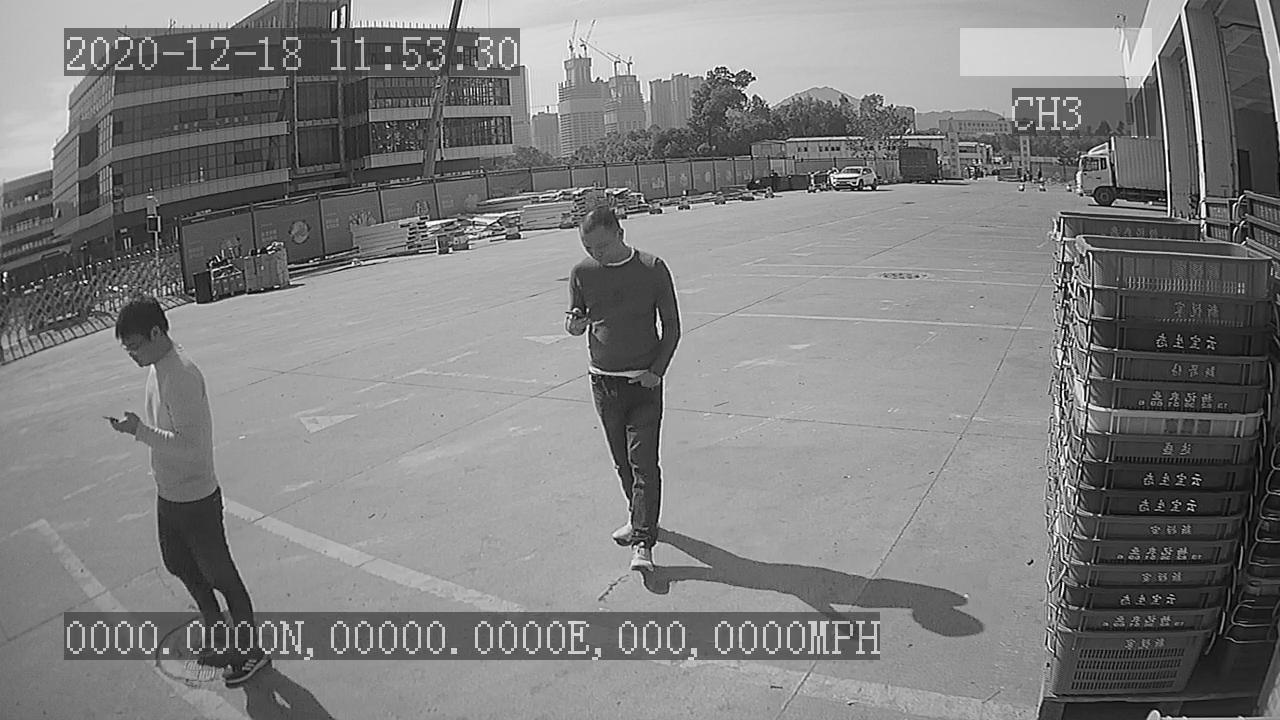person: (556, 201, 690, 586)
